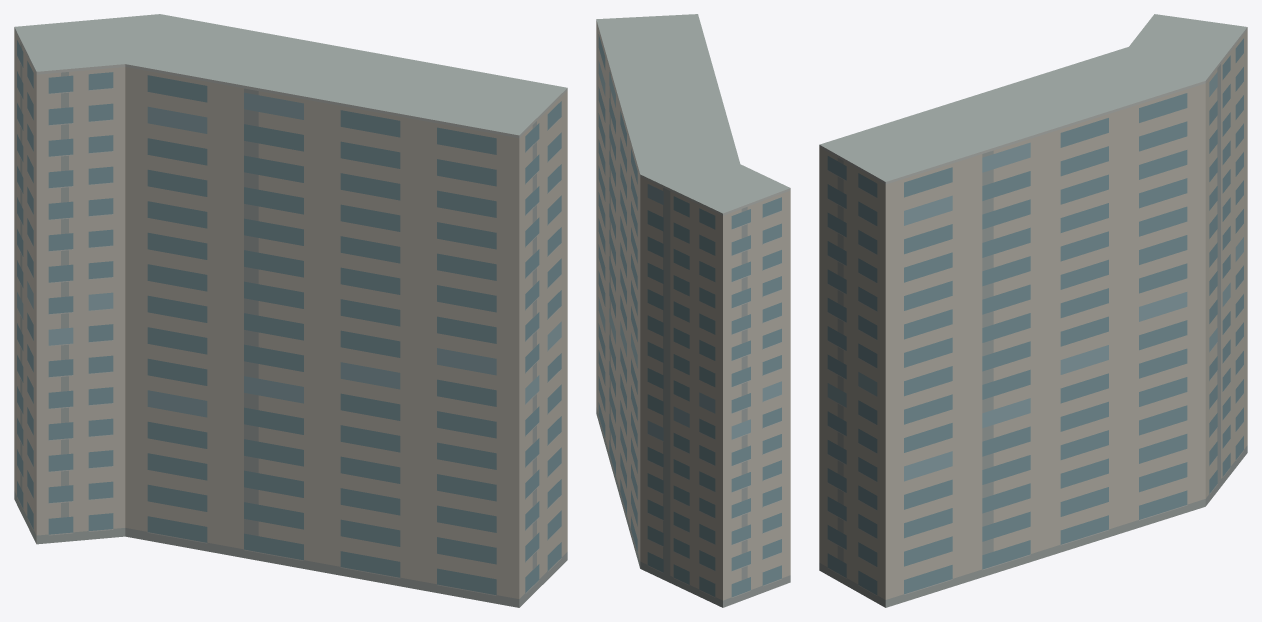
The model's file is residential-678347c8-06e0-42e5-b777-a854473db3af.glb.
3 renders of one model, left to right at view 1: azimuth 30°, elevation 25°; view 2: azimuth 150°, elevation 25°; view 3: azimuth 270°, elevation 25°, orthographic. The views are drawn at different scales.
Visible parts, largest first — view 1: residential-678347c8-06e0-42e5-b777-a854473db3af.tmp; view 2: residential-678347c8-06e0-42e5-b777-a854473db3af.tmp; view 3: residential-678347c8-06e0-42e5-b777-a854473db3af.tmp.
Part boxes in pixels (bbox=[...]): residential-678347c8-06e0-42e5-b777-a854473db3af.tmp: bbox=[14, 14, 567, 607]; residential-678347c8-06e0-42e5-b777-a854473db3af.tmp: bbox=[596, 14, 790, 607]; residential-678347c8-06e0-42e5-b777-a854473db3af.tmp: bbox=[819, 14, 1247, 607].
Bounding box in the file's own units: 33.85 × 40 × 36.46.
